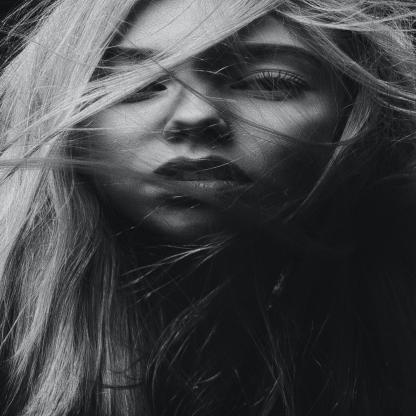Eye: (232, 66, 312, 102), (124, 80, 165, 102)
Mouth: (144, 150, 256, 198)
Nose: (164, 87, 228, 142)
